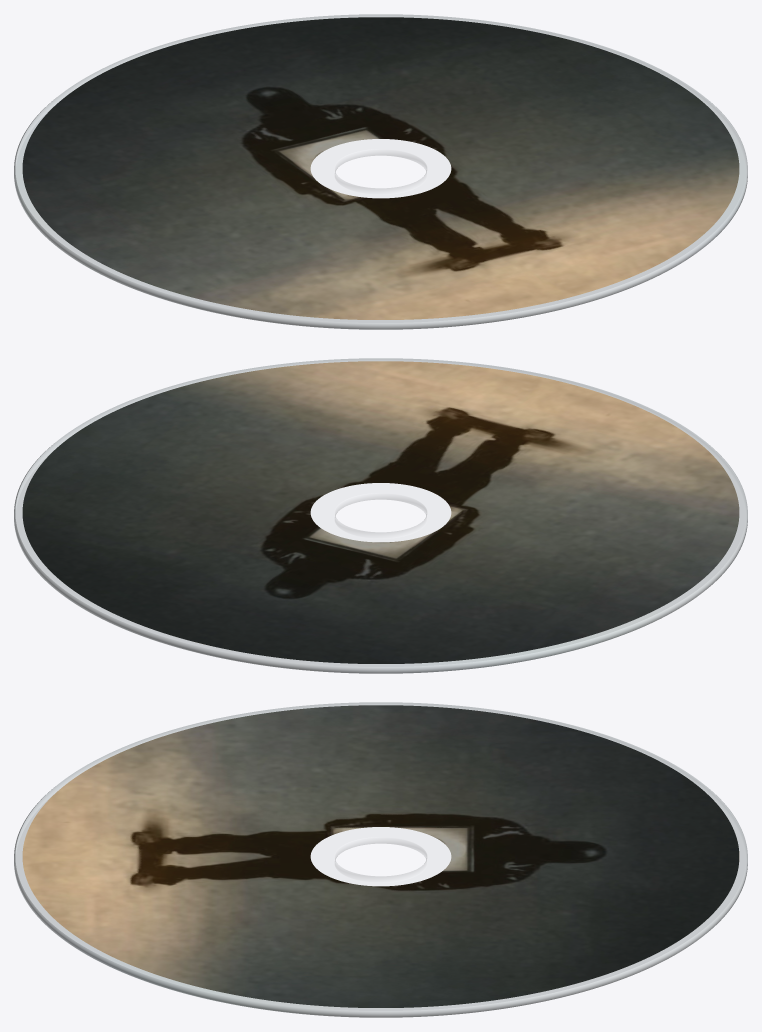
File: 16_vultures_2.glb
The picture shows the model from 3 angles, top to bottom: view 1: azimuth 30°, elevation 25°; view 2: azimuth 150°, elevation 25°; view 3: azimuth 270°, elevation 25°; orthographic projection.
Parts seen in each view (by area): view 1: Vultures 2 · complete CD; view 2: Vultures 2 · complete CD; view 3: Vultures 2 · complete CD.
Part boxes in pixels (<box>): Vultures 2 · complete CD: <box>14,14,747,329</box>; Vultures 2 · complete CD: <box>14,358,747,673</box>; Vultures 2 · complete CD: <box>14,702,747,1017</box>.
Bounding box in the file's own units: 0.12 × 0.00132 × 0.12.
Materials: 5 (2 with a texture image).
